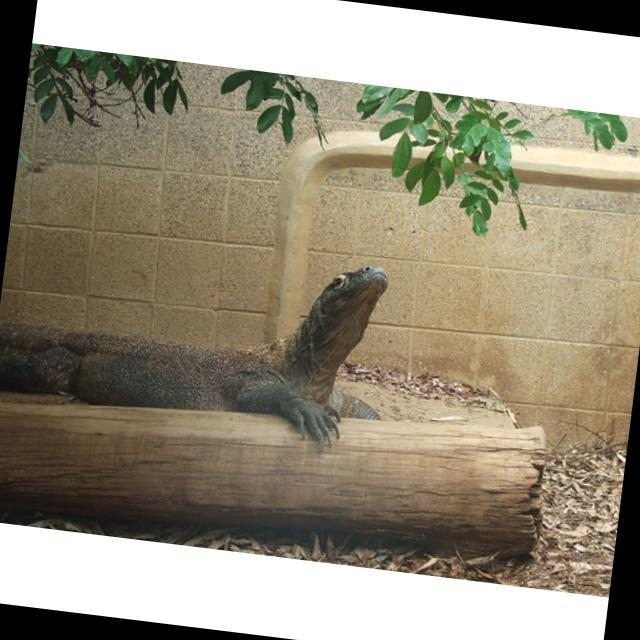KomodoDragon: (0, 217, 403, 461)
